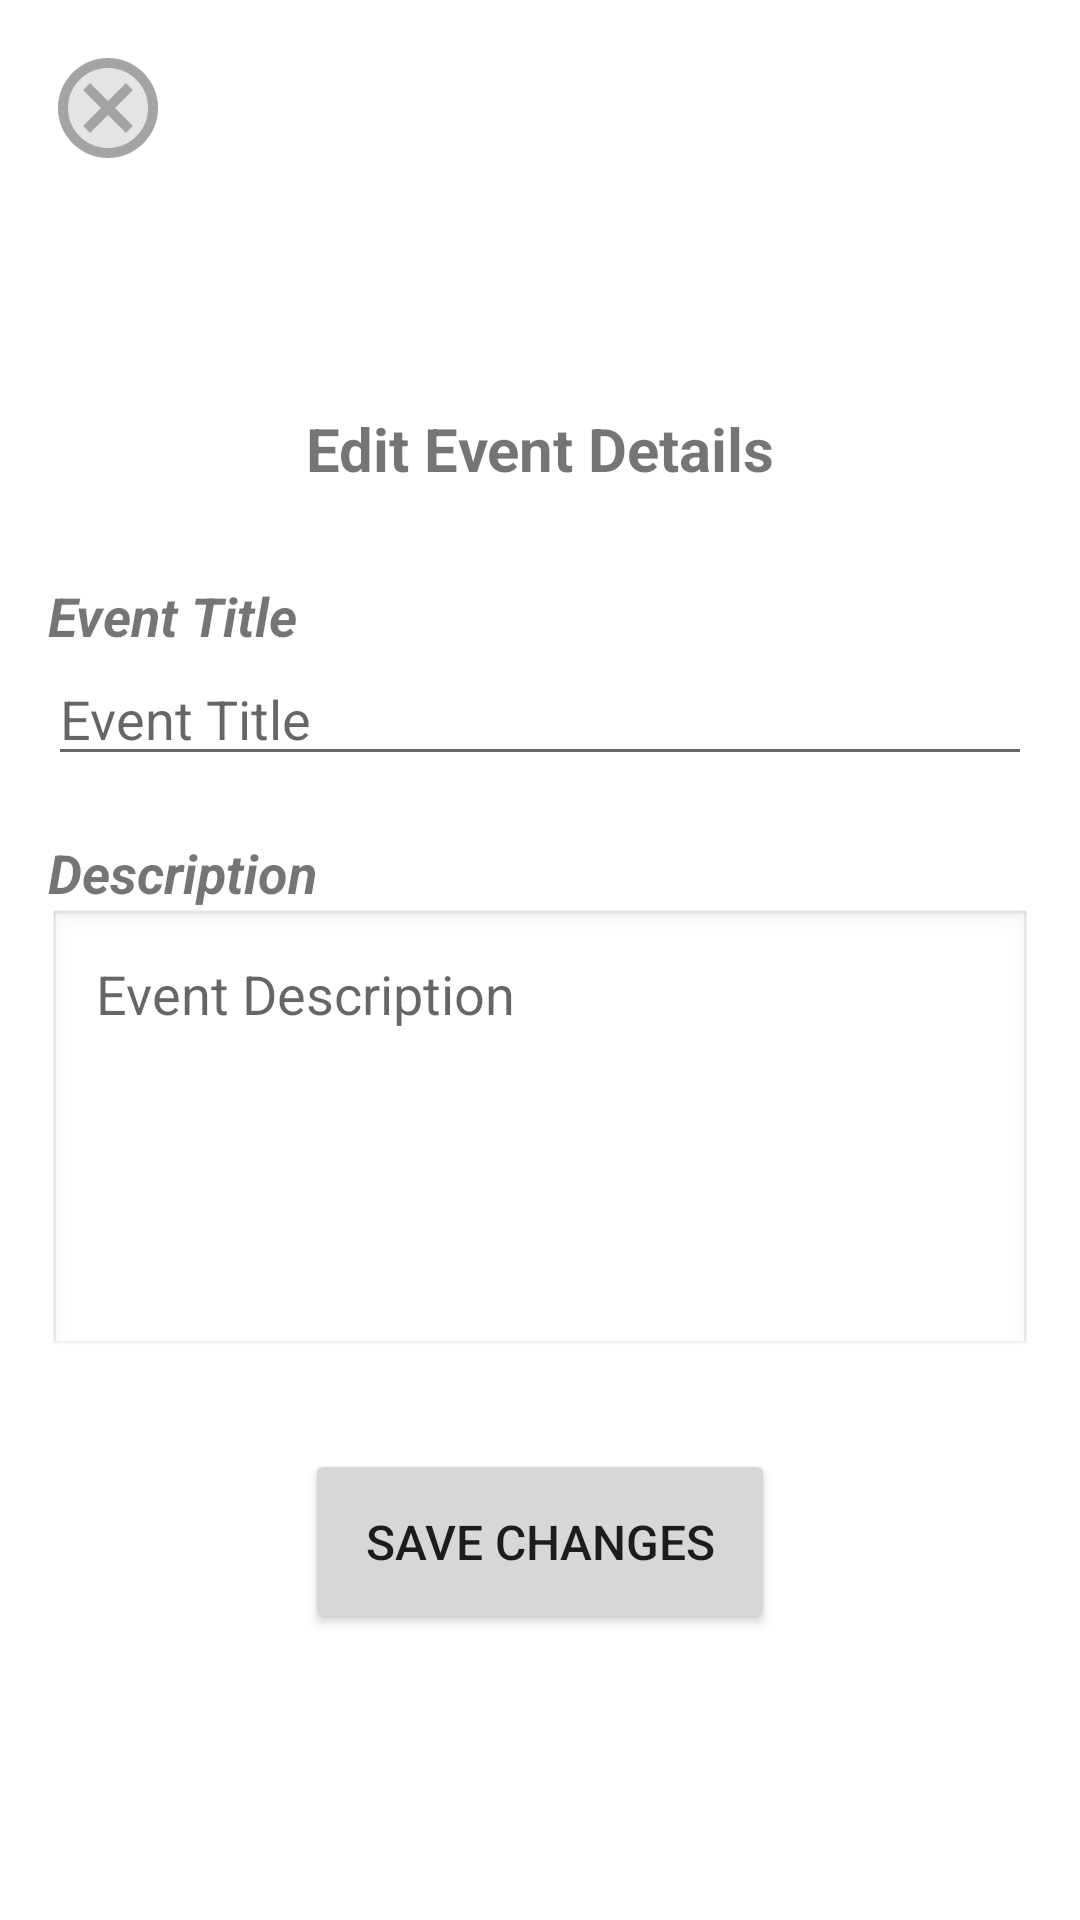

Where icons sit on this 1080 x 1920 app screen, as {"x1": x1, "y1": y1, "x2": x2, "y2": y2}:
cancel: {"x1": 58, "y1": 58, "x2": 158, "y2": 158}
